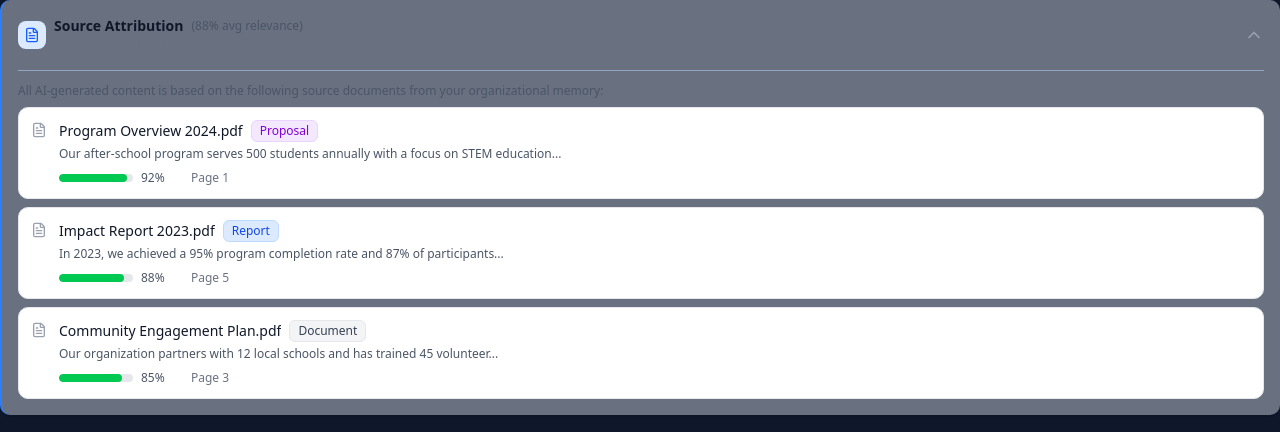
Test: SourceAttributionPanel Component › Collapse/Expand Functionality › should collapse when clicked again
expect the text "Program Overview 2024.pdf" is shown: met, box [59,121,243,141]
Click the text "Source Attribution".
click(119, 26)  # box [54,16,184,36]
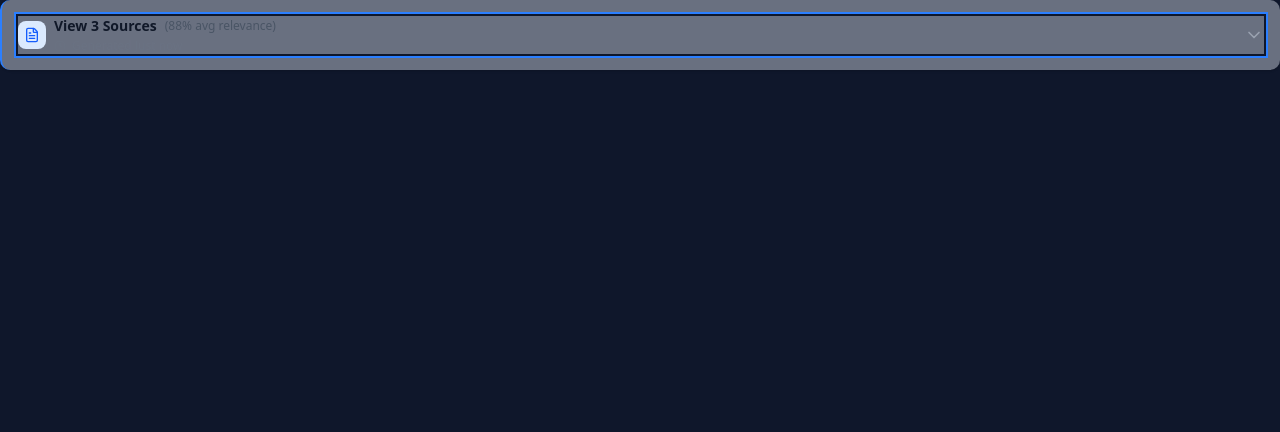
expect the button "Program Overview 2024.pdf" is gone: met
